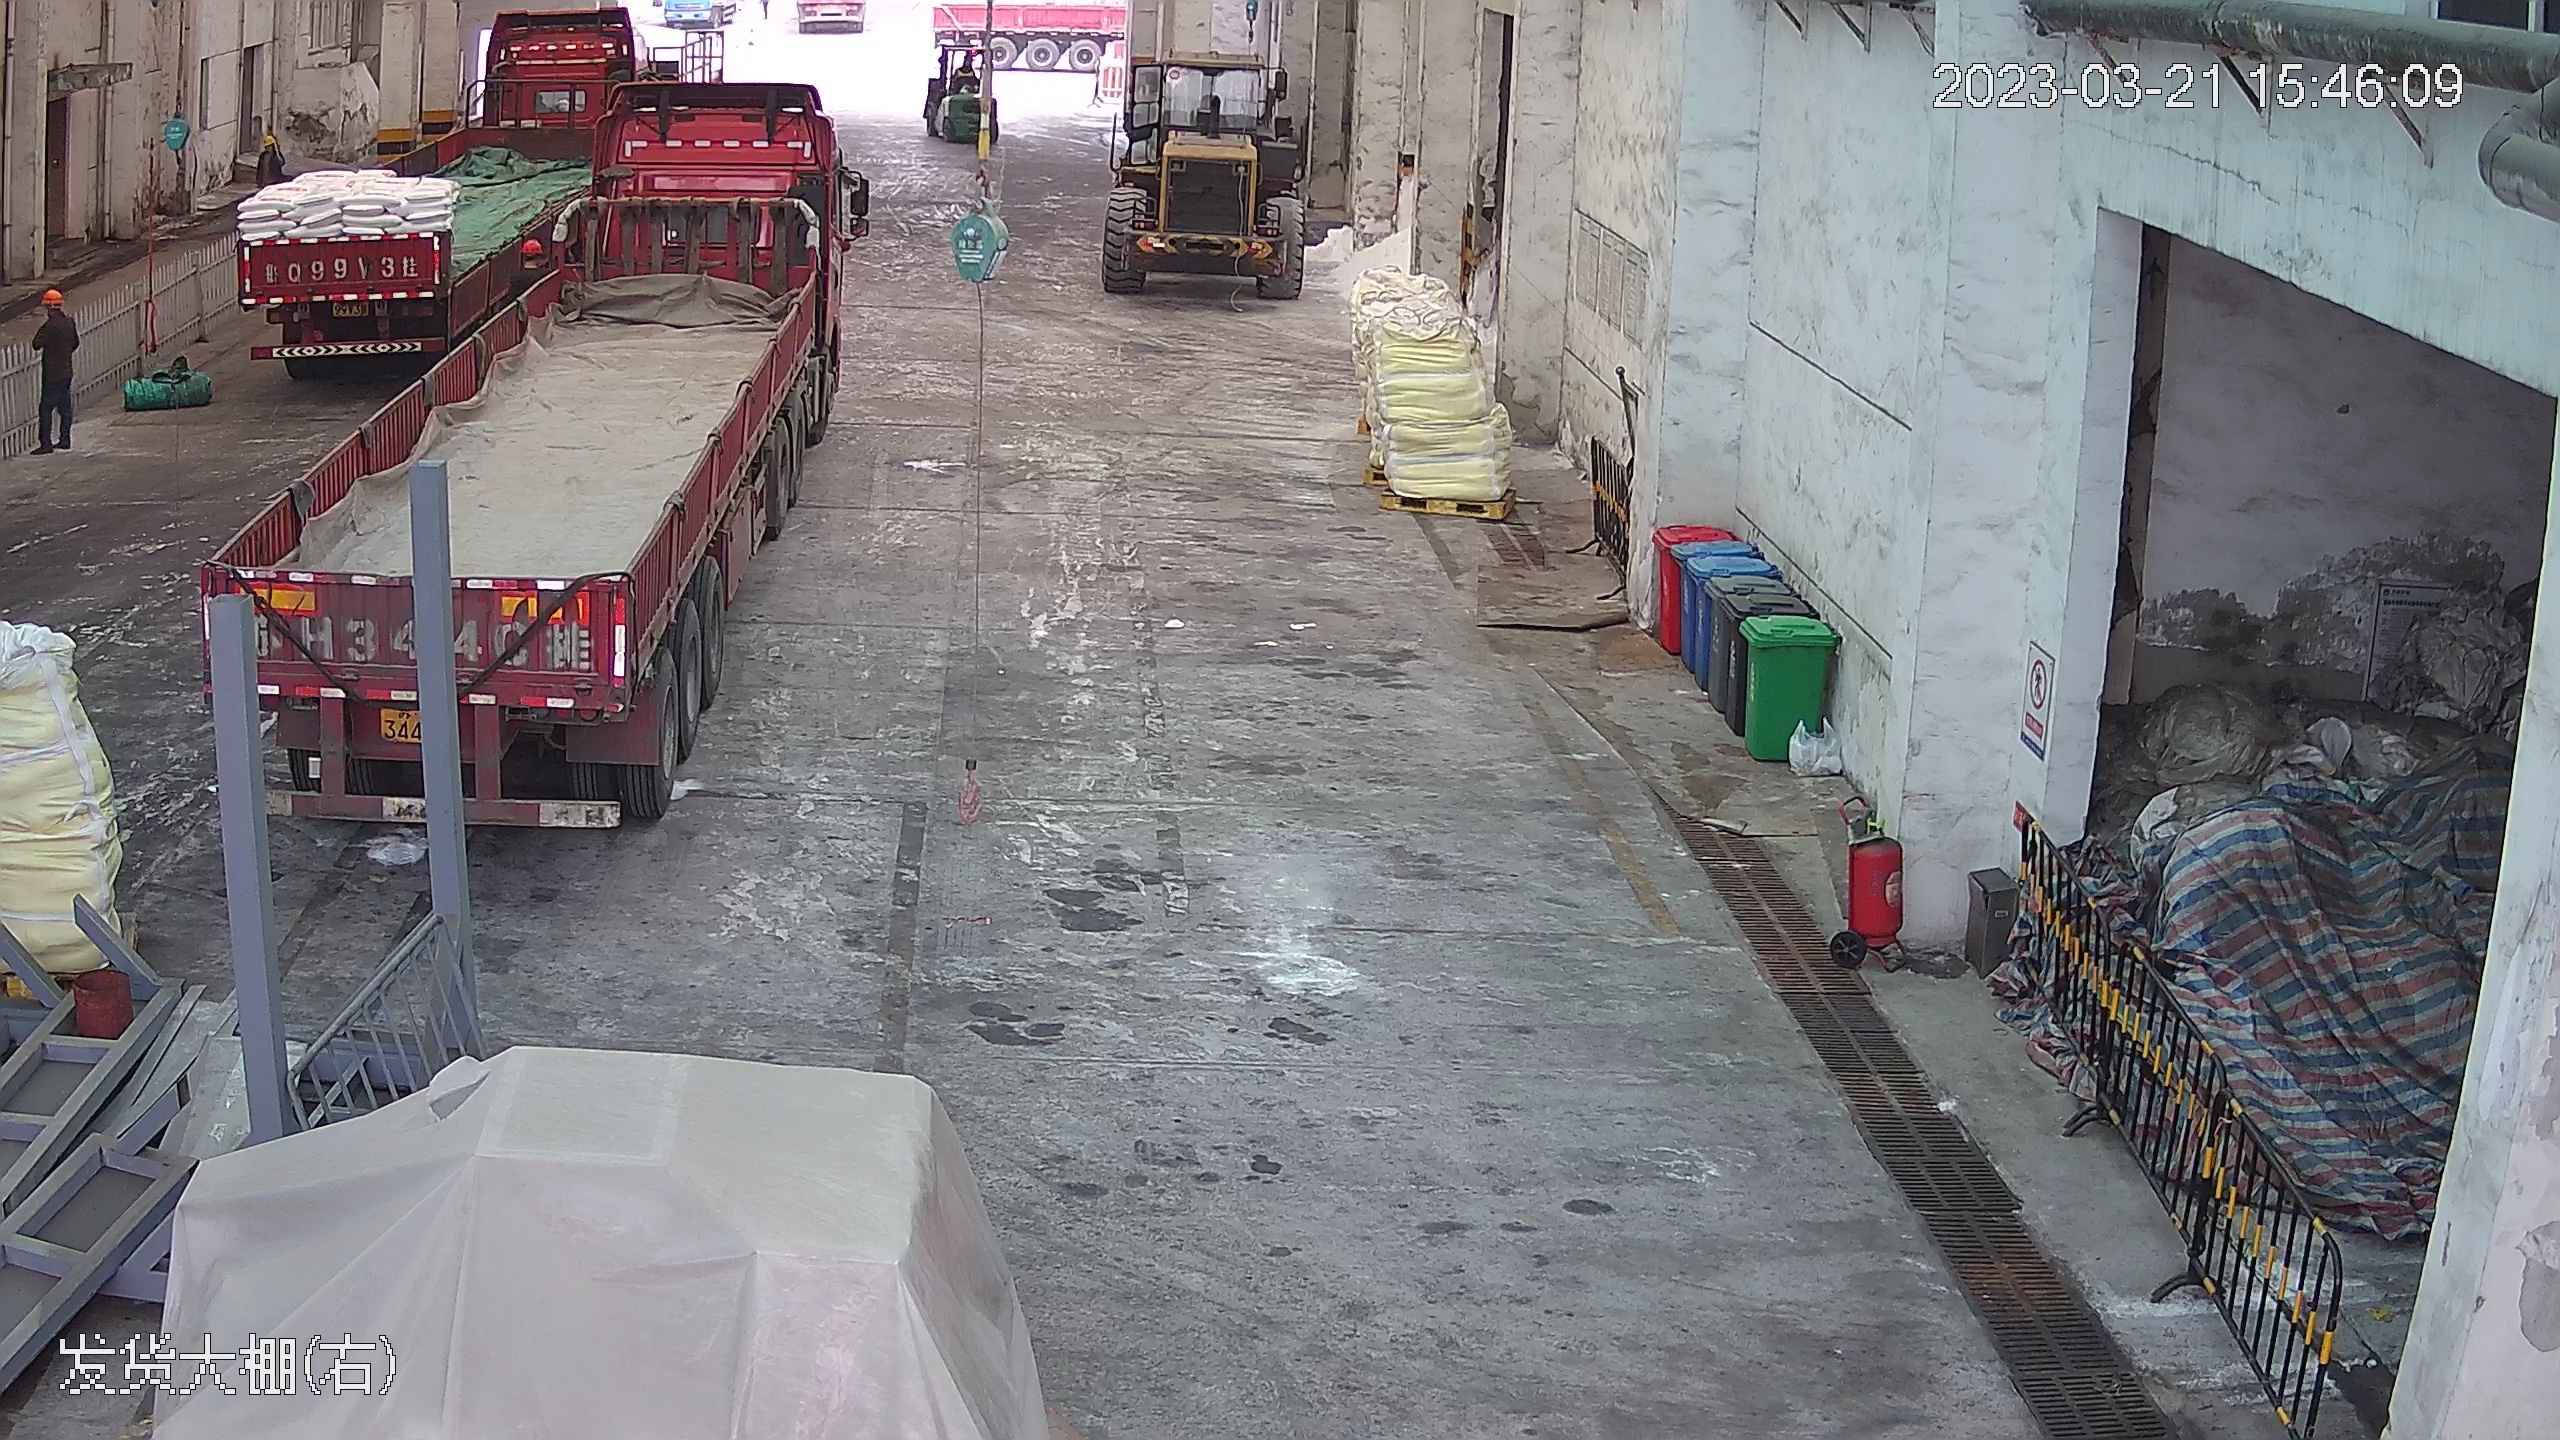head: (32, 282, 76, 338), (256, 135, 283, 167)
helmet: (41, 283, 65, 305), (263, 136, 275, 146)
people: (23, 282, 82, 463), (253, 131, 287, 188)
truck: (207, 33, 855, 843), (202, 10, 607, 380)
